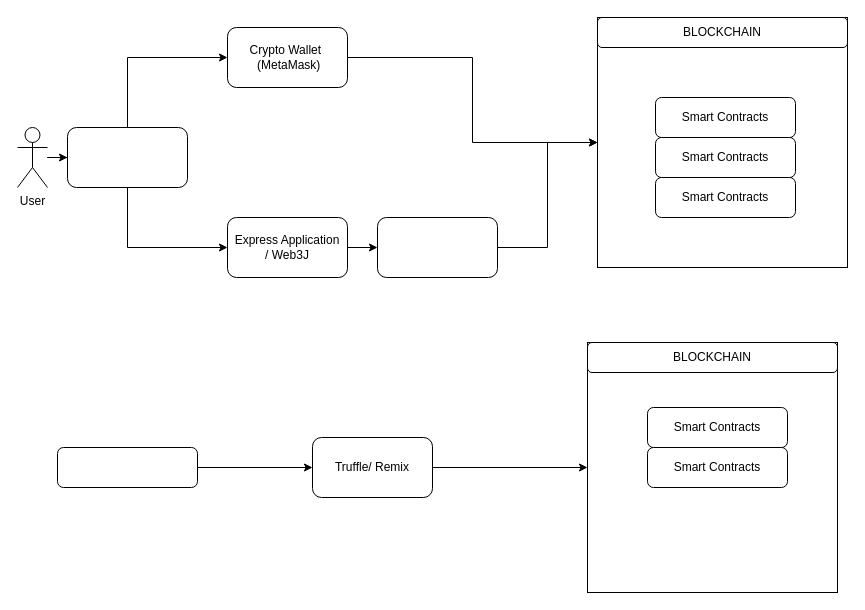
Image size: 865x610. Some labels were removed from this diagram. The shapes that lost their labels are listed below. From the top down, each one's box as (x1, y1, x2, y2) in pixels, then its label:
(66, 126, 188, 188): React APP
(376, 216, 498, 278): Infura
(56, 446, 198, 488): Solidity Smart Contract
